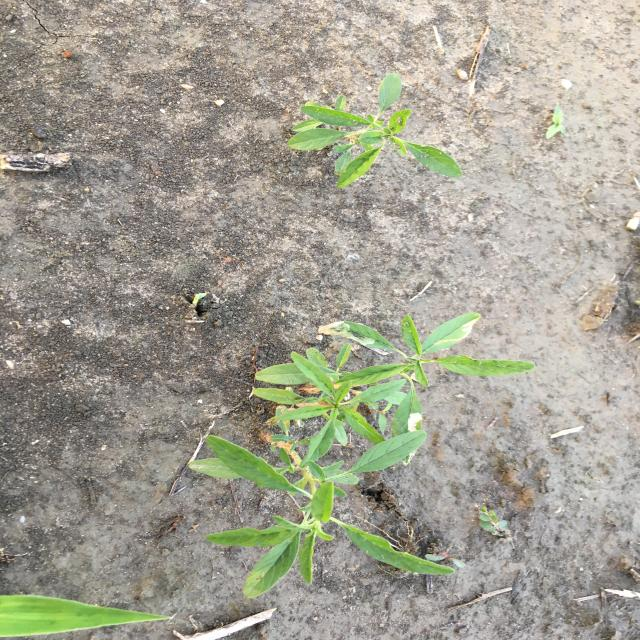Waterhemp: (187, 310, 537, 600), (286, 72, 465, 189)
